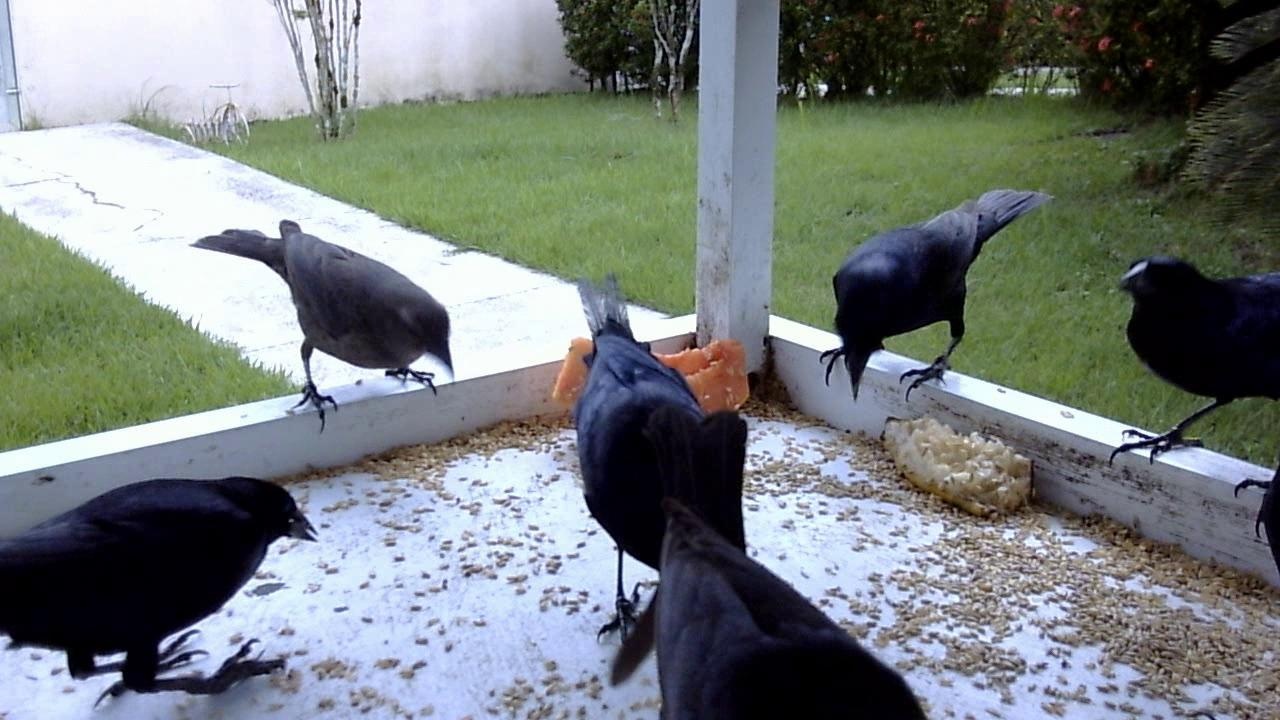chupim: (6, 469, 334, 716), (553, 275, 753, 656), (616, 489, 944, 713), (178, 209, 463, 439), (810, 182, 1054, 422), (1093, 242, 1273, 567)
